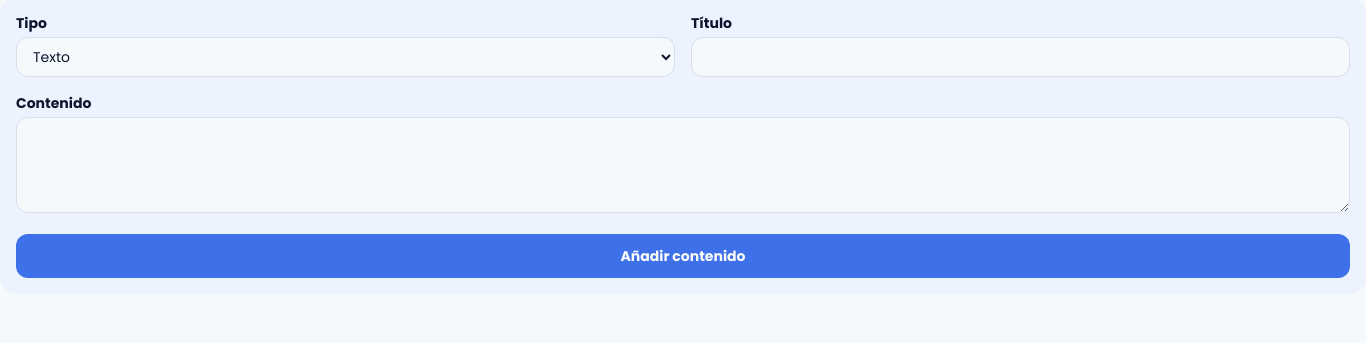
Test: formulario de contenido de grupo › muestra solamente los campos de file
Select "Archivo" in the dropdown labelled "Tipo" at (346, 57), box [16,37,675,77]
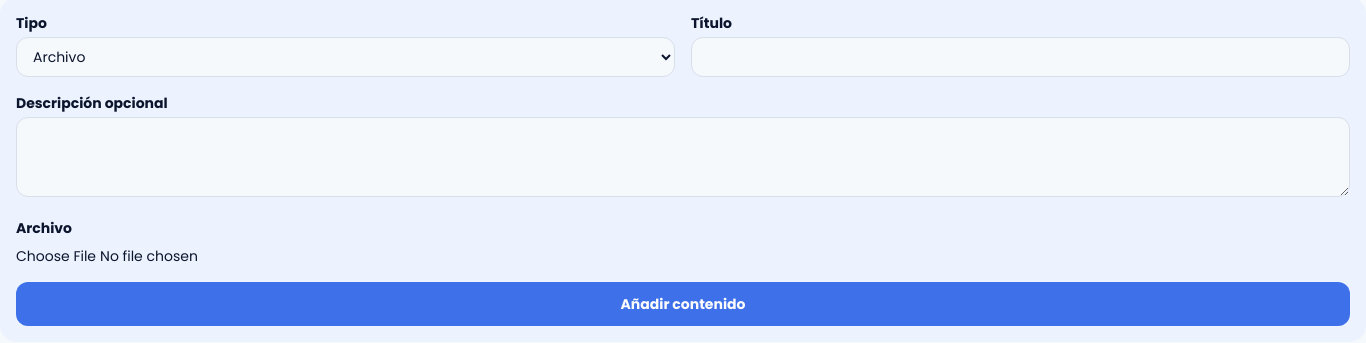
Expected: the text box labelled "Descripción opcional" is shown, [16,117,1350,197]
Now the file field labelled "Archivo" is shown, box [16,246,1350,266]
